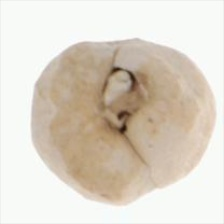L3: (100, 65, 144, 136)
L4: (30, 38, 216, 205)
